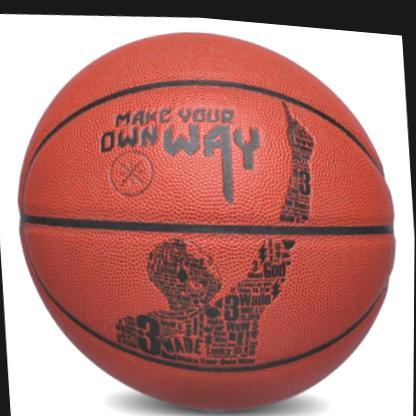basketball: (6, 3, 410, 416)
